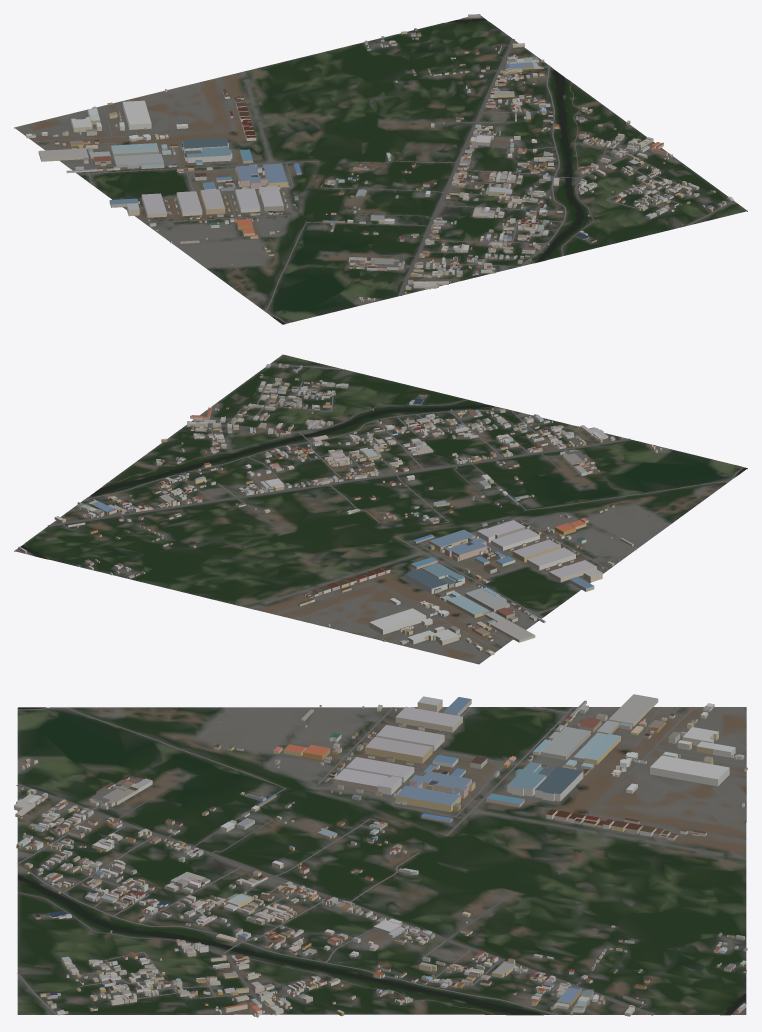
3 renders of one model, top to bottom at view 1: azimuth 30°, elevation 25°; view 2: azimuth 150°, elevation 25°; view 3: azimuth 270°, elevation 25°, orthographic. The views are drawn at different scales.
Parts seen in each view (by area): view 1: ground, buildings, roads, water; view 2: ground, buildings, roads, water; view 3: ground, buildings, roads, water.
Part boxes in pixels (<box>): ground: <box>14,15,747,324</box>; buildings: <box>26,14,733,301</box>; roads: <box>33,17,733,323</box>; water: <box>273,18,583,324</box>; ground: <box>14,354,747,664</box>; buildings: <box>18,363,662,655</box>; roads: <box>27,364,743,650</box>; water: <box>20,404,746,558</box>; ground: <box>17,707,746,1015</box>; buildings: <box>14,694,747,1017</box>; roads: <box>16,706,746,1015</box>; water: <box>18,707,745,1014</box>.
Size of the model in its own units: 1455 by 21.05 by 1411.
